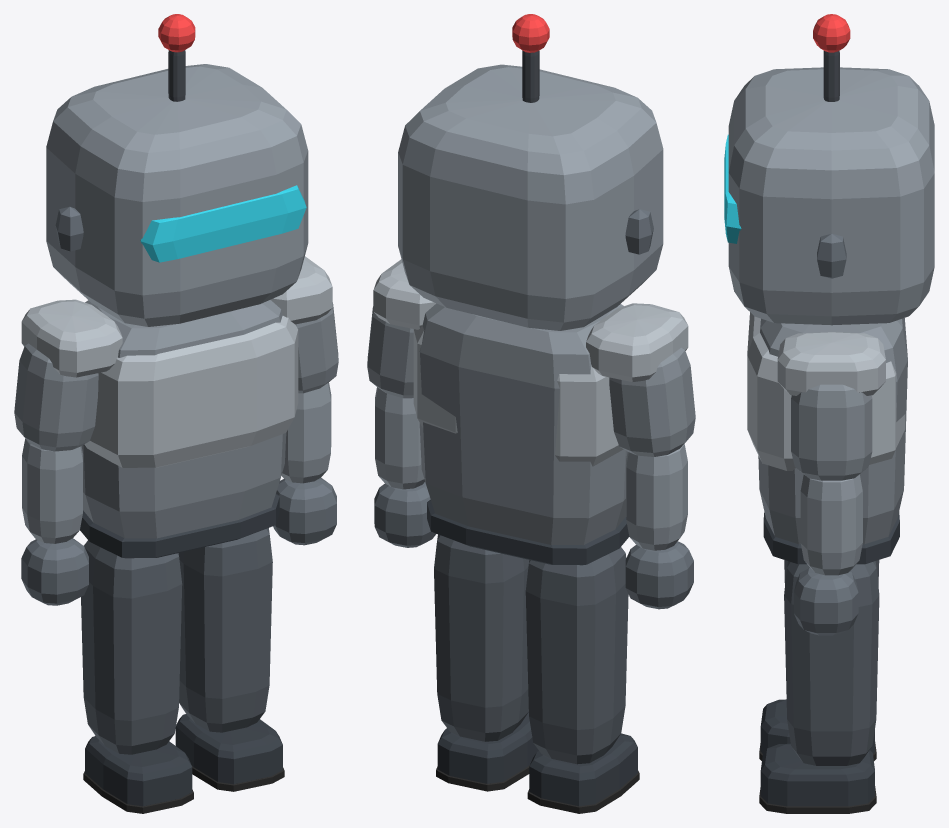
Rendered from hero-g.glb.
3 renders of one model, left to right at view 1: azimuth 30°, elevation 25°; view 2: azimuth 150°, elevation 25°; view 3: azimuth 270°, elevation 25°, orthographic.
Parts seen in each view (by area): view 1: head, torso, leg-right, leg-left, arm-right, arm-left; view 2: head, torso, leg-right, leg-left, arm-right, arm-left; view 3: head, torso, leg-left, arm-left, leg-right.
Boxes of the visible parts, x1=… form: head: x1=46, y1=14, x2=308, y2=326; torso: x1=21, y1=256, x2=332, y2=558; leg-right: x1=81, y1=540, x2=193, y2=813; leg-left: x1=175, y1=528, x2=284, y2=791; arm-right: x1=14, y1=343, x2=98, y2=605; arm-left: x1=273, y1=302, x2=338, y2=545; head: x1=398, y1=14, x2=663, y2=330; torso: x1=373, y1=259, x2=688, y2=565; leg-right: x1=525, y1=547, x2=639, y2=813; leg-left: x1=434, y1=534, x2=538, y2=791; arm-right: x1=609, y1=347, x2=695, y2=609; arm-left: x1=367, y1=306, x2=435, y2=547; head: x1=724, y1=14, x2=934, y2=325; torso: x1=747, y1=312, x2=907, y2=564; leg-left: x1=759, y1=561, x2=879, y2=813; arm-left: x1=791, y1=384, x2=872, y2=635; leg-right: x1=759, y1=560, x2=879, y2=760.
Bounding box in the file's own units: 1.29 × 3.03 × 0.7619.
